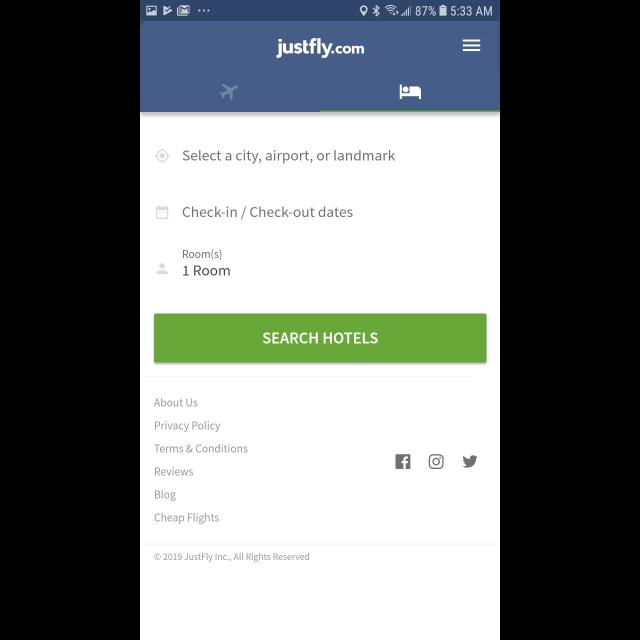icon: (428, 454, 444, 470), (154, 148, 170, 164), (462, 40, 482, 52), (396, 454, 410, 470), (462, 454, 478, 468), (156, 205, 168, 219), (156, 264, 168, 274)
image: (219, 83, 239, 101), (399, 84, 421, 100)
text: (182, 150, 396, 164), (183, 207, 353, 221), (276, 38, 364, 58), (154, 553, 310, 563), (155, 443, 249, 452), (154, 512, 220, 524), (155, 422, 221, 432), (182, 249, 222, 261), (183, 266, 230, 276), (154, 398, 198, 407), (156, 466, 194, 476), (156, 490, 177, 502)
textbutton: (154, 313, 486, 363)
uppertaskbar: (140, 1, 500, 22)
